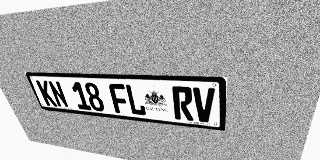1: (69, 82, 92, 110)
8: (83, 82, 105, 112)
F: (108, 83, 130, 114)
K: (35, 80, 58, 107)
L: (124, 84, 147, 116)
N: (47, 81, 69, 108)
R: (172, 86, 194, 121)
V: (193, 87, 215, 123)
